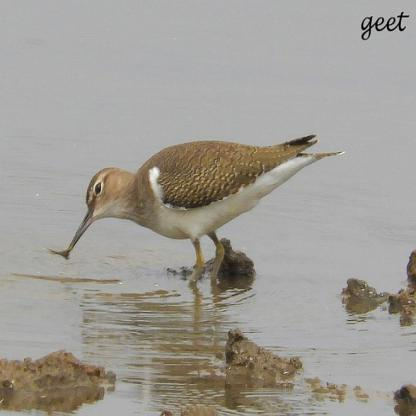Burung: (54, 124, 349, 283)
